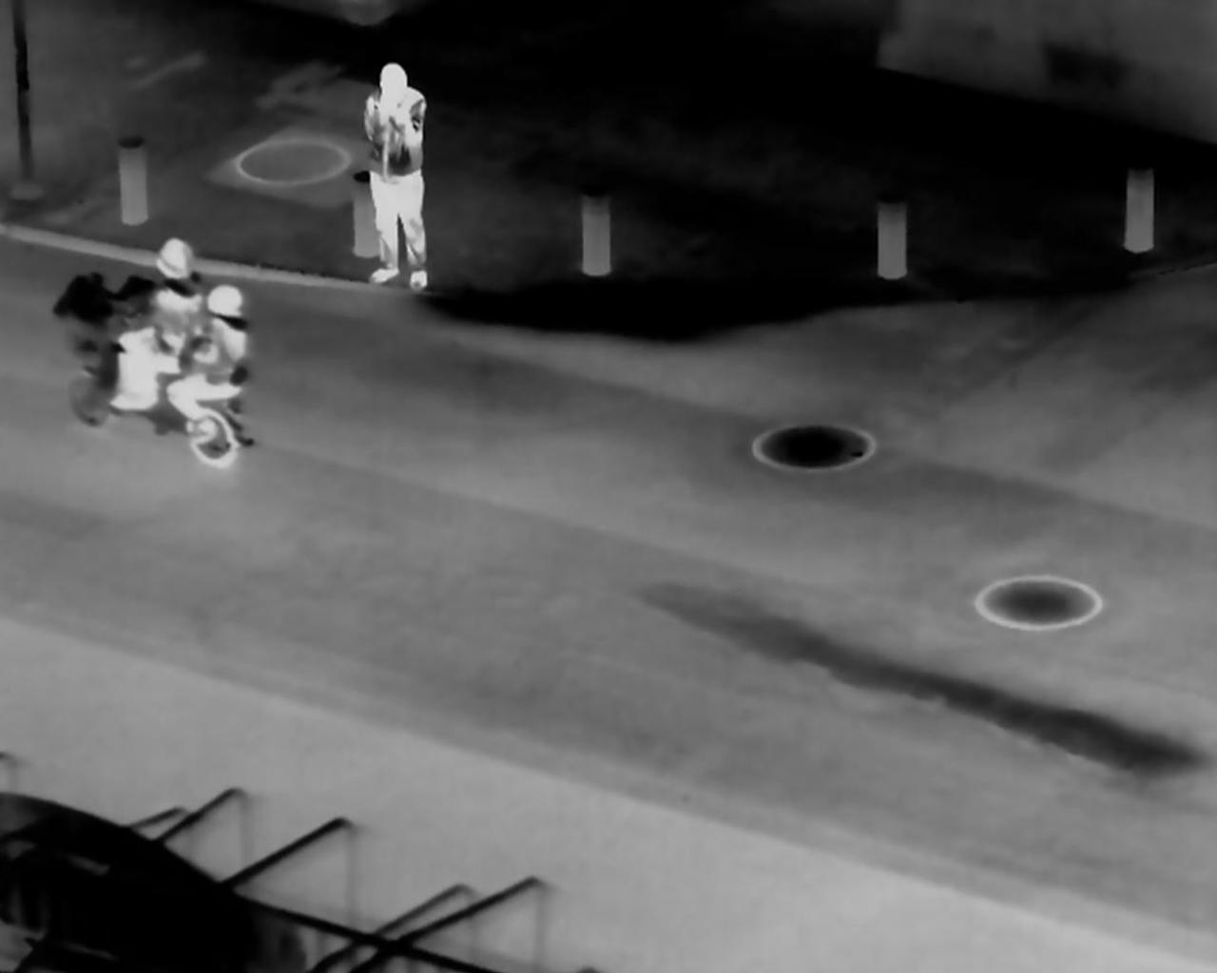person: (347, 57, 440, 292), (107, 235, 203, 409), (180, 287, 248, 433)
